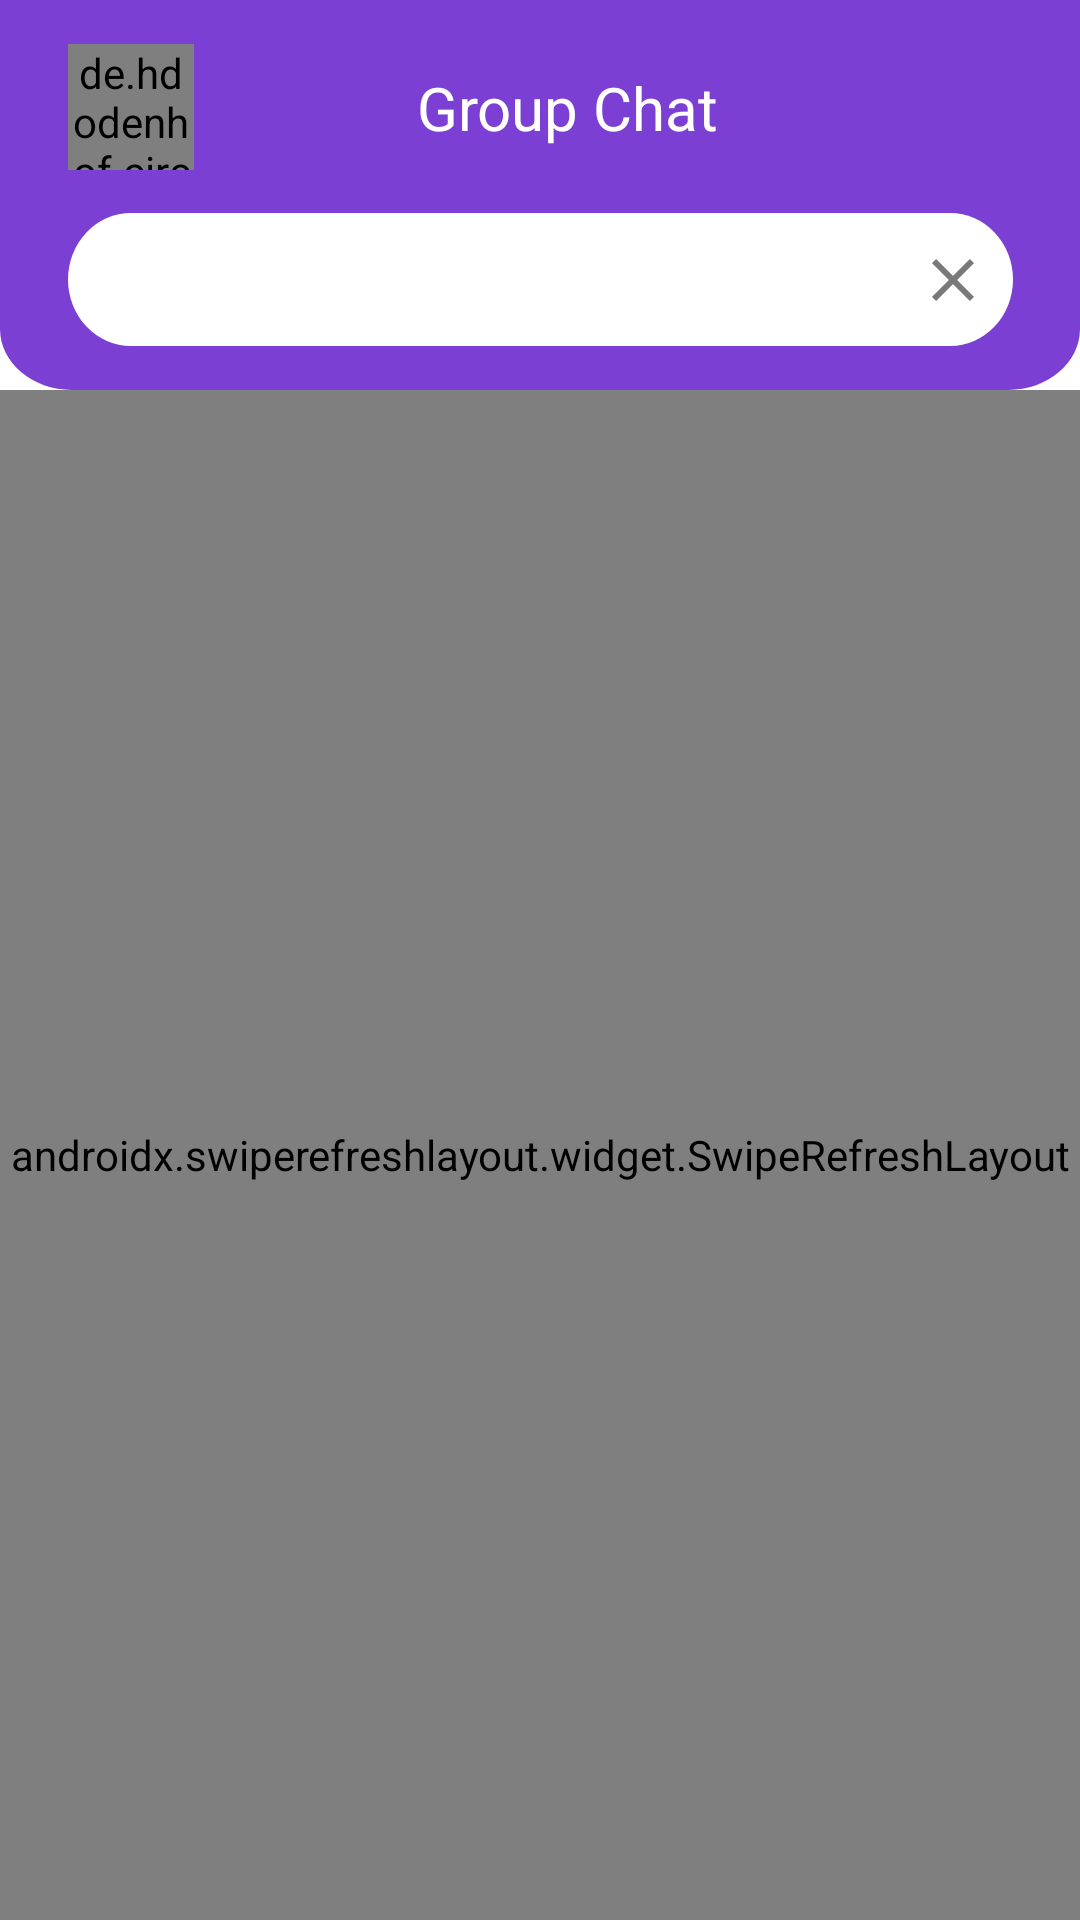

Screen size 1080w x 1920h. Icon name, then its center in pixels as point (x, y):
close: point (953, 280)
